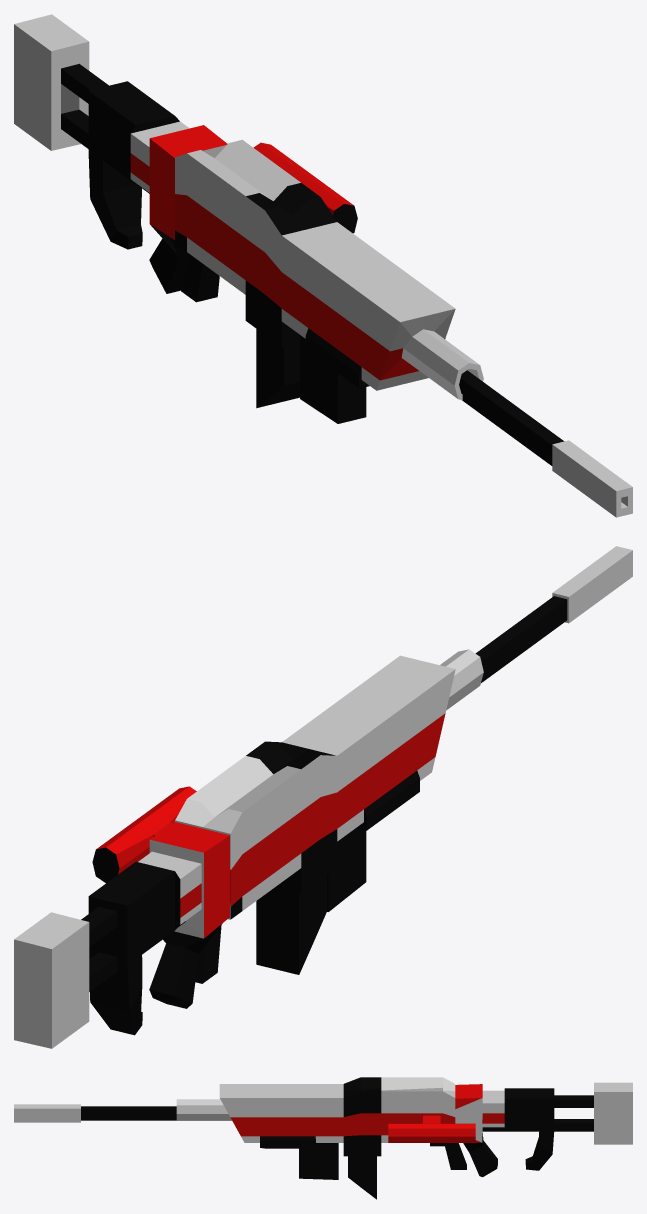
The model's file is Guns1.fbx.
The picture shows the model from 3 angles, top to bottom: view 1: azimuth 30°, elevation 25°; view 2: azimuth 150°, elevation 25°; view 3: azimuth 270°, elevation 25°; orthographic projection. The views are drawn at different scales.
Visible parts, largest first — view 1: LaserRifle, SniperRifle; view 2: LaserRifle, SniperRifle; view 3: LaserRifle, SniperRifle.
Part boxes in pixels (x1,y1,x2,y2): LaserRifle: (88,81,483,408); SniperRifle: (14,14,632,517); LaserRifle: (88,649,483,1035); SniperRifle: (14,546,632,1048); LaserRifle: (176,1077,554,1199); SniperRifle: (14,1082,632,1179).
Size of the model in its own units: 296 by 490 by 2497.
